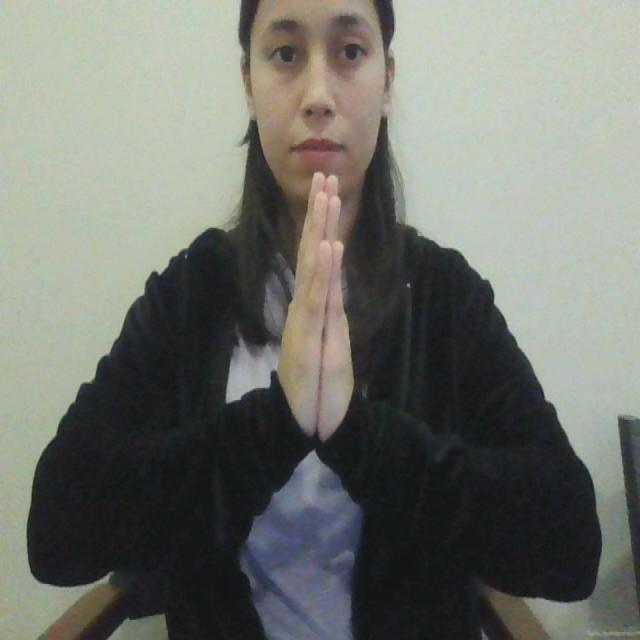Ozur-Dilemek: (276, 162, 360, 464)
